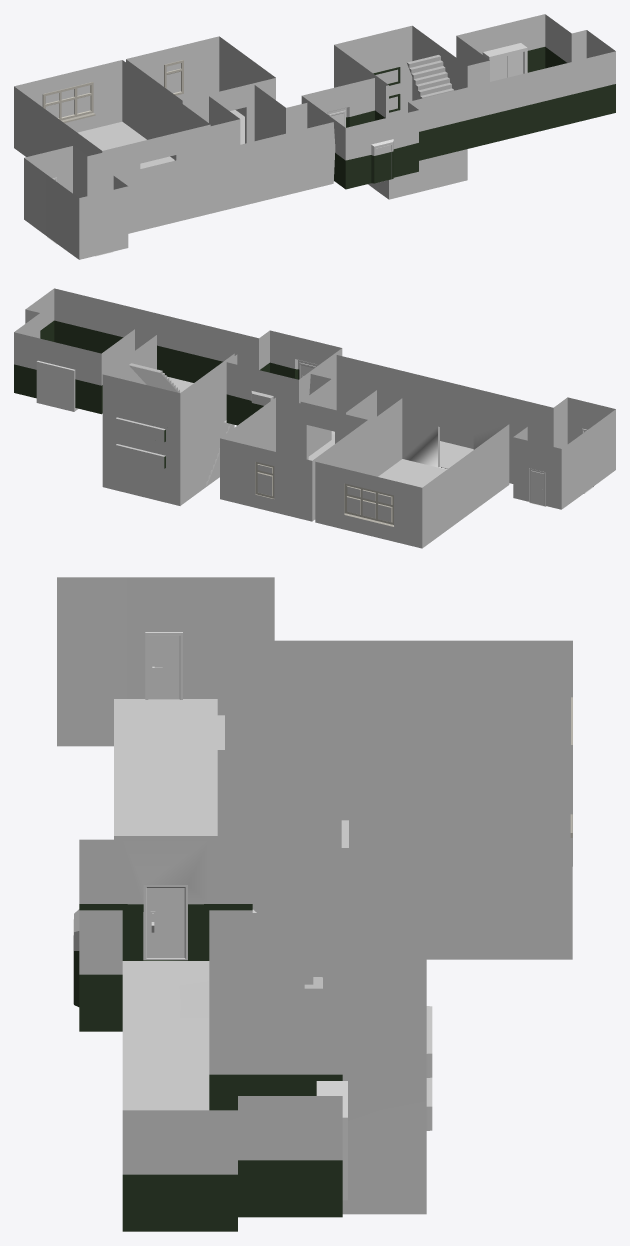
Rendered from Квартира1.2.fbx.
3 views of the same model, one above another, from view 1: azimuth 30°, elevation 25°; view 2: azimuth 150°, elevation 25°; view 3: azimuth 270°, elevation 25° (orthographic). The views are drawn at different scales.
Parts seen in each view (by area): view 1: Plane, Plane.005, Cube; view 2: Plane, Cube, Plane.005, Cube.006; view 3: Plane, Cube.007, Cube.005, Cube.
Boxes of the visible parts, x1,y1,x2,y2 form: Plane: (14,14,615,259); Plane.005: (407,55,454,98); Cube: (482,43,527,81); Plane: (14,288,615,548); Cube: (36,360,78,411); Plane.005: (129,363,181,392); Cube.006: (529,468,546,506); Plane: (57,577,572,1231); Cube.007: (143,885,187,960); Cube.005: (145,632,182,699); Cube: (316,1081,347,1200).
Bounding box in the file's own units: 3472 × 689 × 1422.
